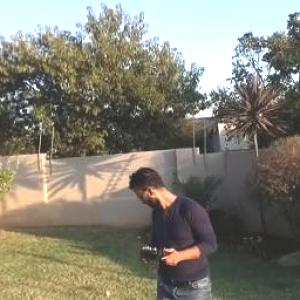follow: (124, 163, 223, 299)
